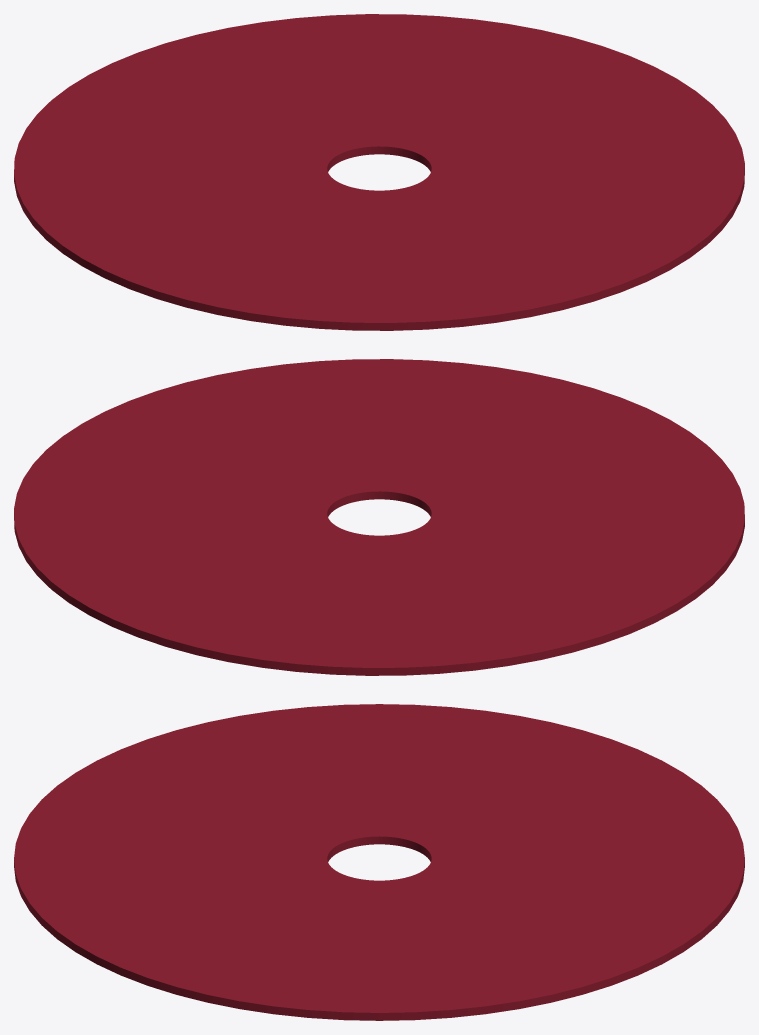
Rendered from electric_furnace_temperature.glb.
3 views of the same model, one above another, from view 1: azimuth 30°, elevation 25°; view 2: azimuth 150°, elevation 25°; view 3: azimuth 270°, elevation 25° (orthographic).
Parts seen in each view (by area): view 1: tzs__front, tzs__back; view 2: tzs__back, tzs__front; view 3: tzs__back, tzs__front.
Part boxes in pixels (left/top/right/bottom): tzs__front: left=62, top=91, right=744, bottom=330; tzs__back: left=14, top=14, right=695, bottom=253; tzs__back: left=14, top=436, right=696, bottom=675; tzs__front: left=63, top=359, right=744, bottom=598; tzs__back: left=379, top=704, right=744, bottom=1020; tzs__front: left=14, top=704, right=379, bottom=1020.
Size of the model in its own units: 1.68 by 0.02 by 1.68.
